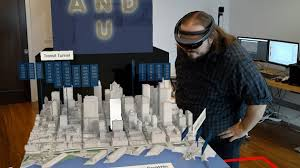hololens: (173, 10, 217, 50)
